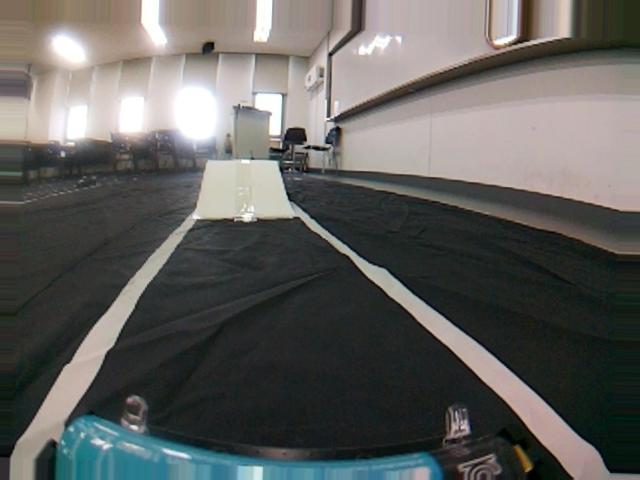hill_up: (193, 156, 301, 218)
straight: (4, 222, 640, 479)
